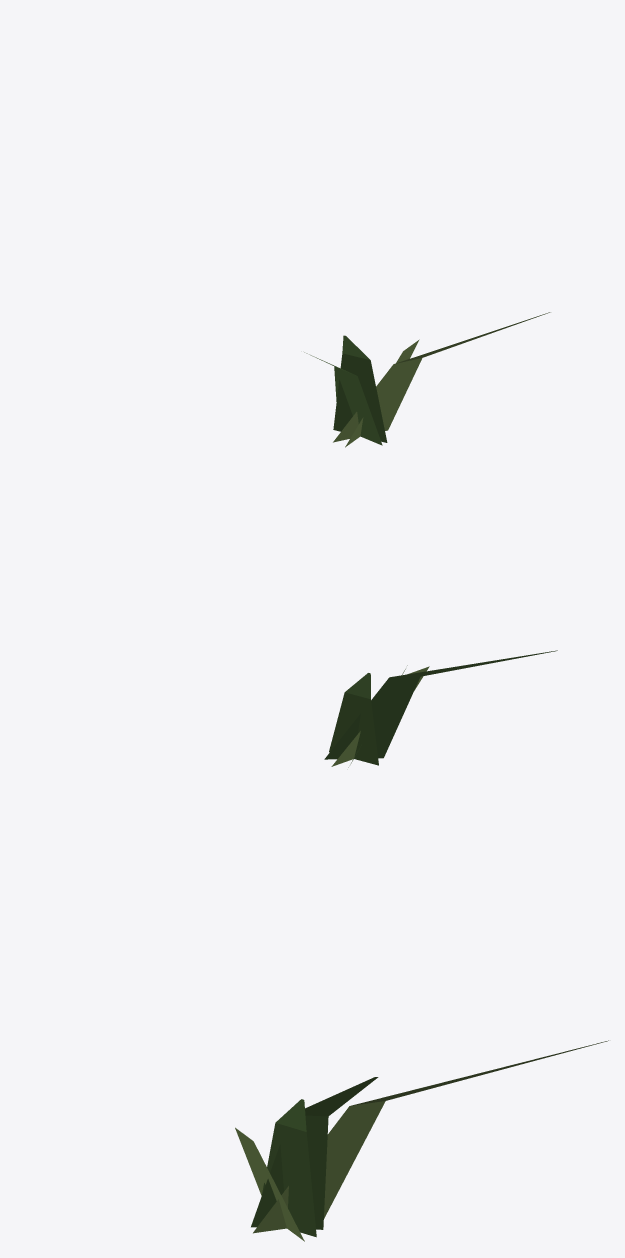
Rendered from land-forest-15.glb.
3 views of the same model, one above another, from view 1: azimuth 30°, elevation 25°; view 2: azimuth 150°, elevation 25°; view 3: azimuth 270°, elevation 25° (orthographic). The views are drawn at different scales.
Visible parts, largest first — view 1: land.forest.15; view 2: land.forest.15; view 3: land.forest.15.
Part boxes in pixels (x1=…): land.forest.15: x1=304, y1=312, x2=550, y2=447; land.forest.15: x1=324, y1=650, x2=557, y2=767; land.forest.15: x1=235, y1=1040, x2=608, y2=1241.
Bounding box in the file's own units: 1.32 × 0.6216 × 1.08.
